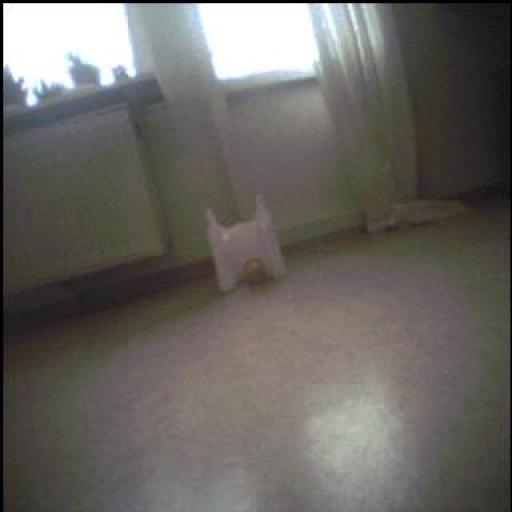Basket: (238, 259, 271, 286)
